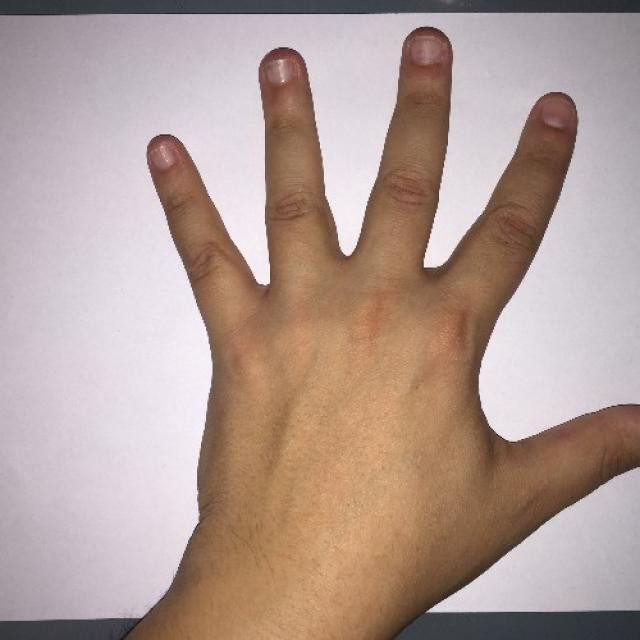paper: (148, 24, 640, 516)
